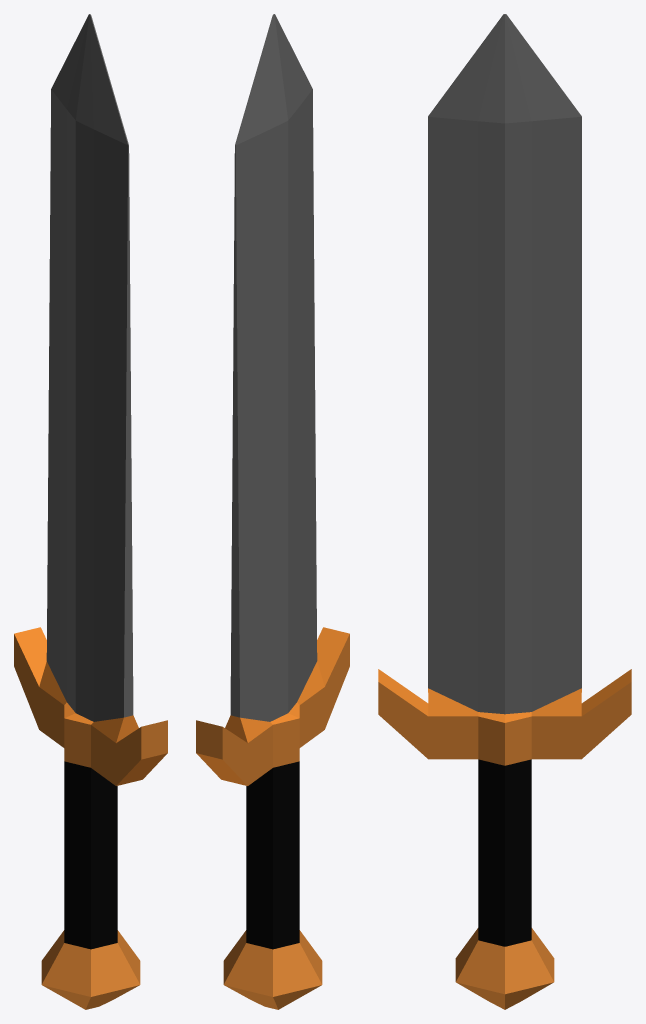
The model's file is Sword_Hero.glb.
The picture shows the model from 3 angles, left to right: view 1: azimuth 30°, elevation 25°; view 2: azimuth 150°, elevation 25°; view 3: azimuth 270°, elevation 25°; orthographic projection.
Visible parts, largest first — view 1: Sword; view 2: Sword; view 3: Sword.
Boxes of the visible parts, bbox=[...] form: Sword: bbox=[14, 14, 167, 1009]; Sword: bbox=[196, 14, 349, 1009]; Sword: bbox=[378, 14, 631, 1009].
Bounding box in the file's own units: 0.1193 × 1.15 × 0.2657.
Materials: 1 (1 with a texture image).
